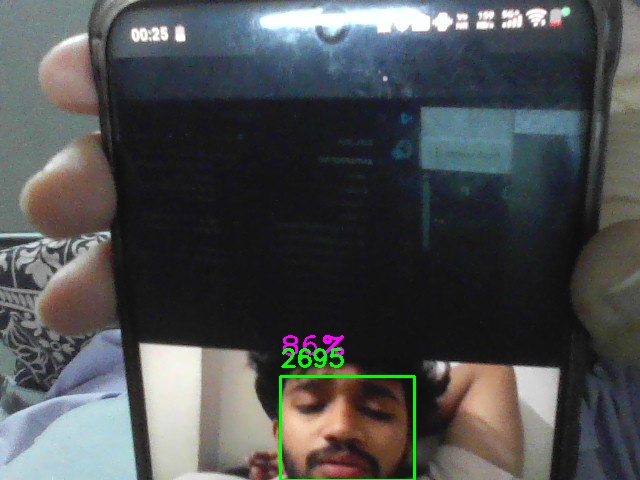fake: (280, 376, 415, 480)
